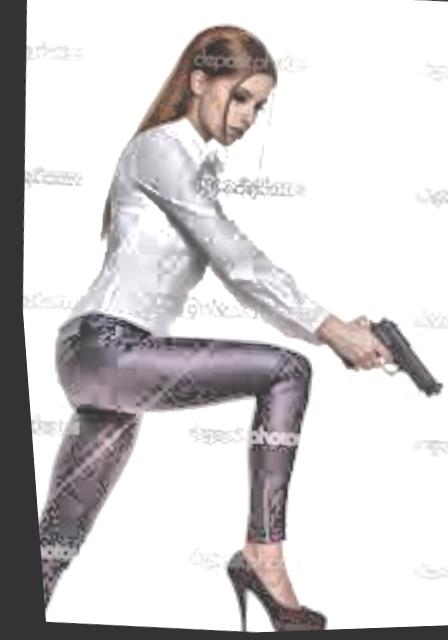pistol: (320, 306, 441, 403)
